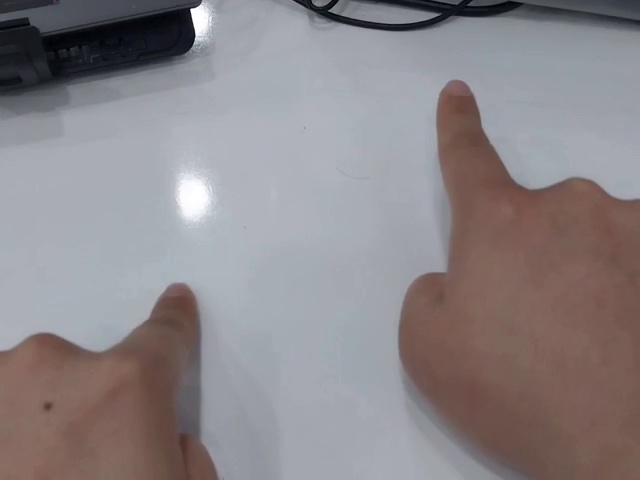fingers: (153, 281, 199, 326), (436, 79, 481, 117)
